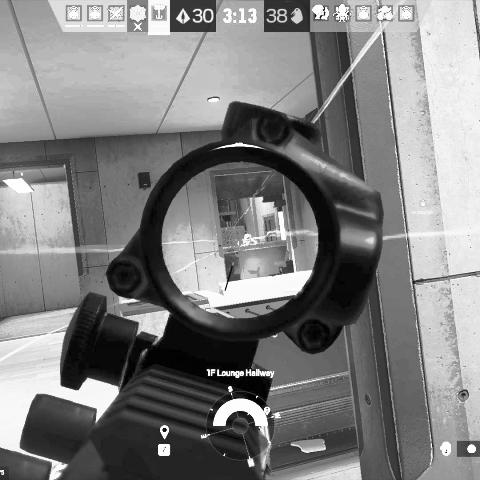Character: (238, 232, 257, 244)
Friend_label: (411, 198, 434, 215)
Head: (244, 234, 252, 243)
